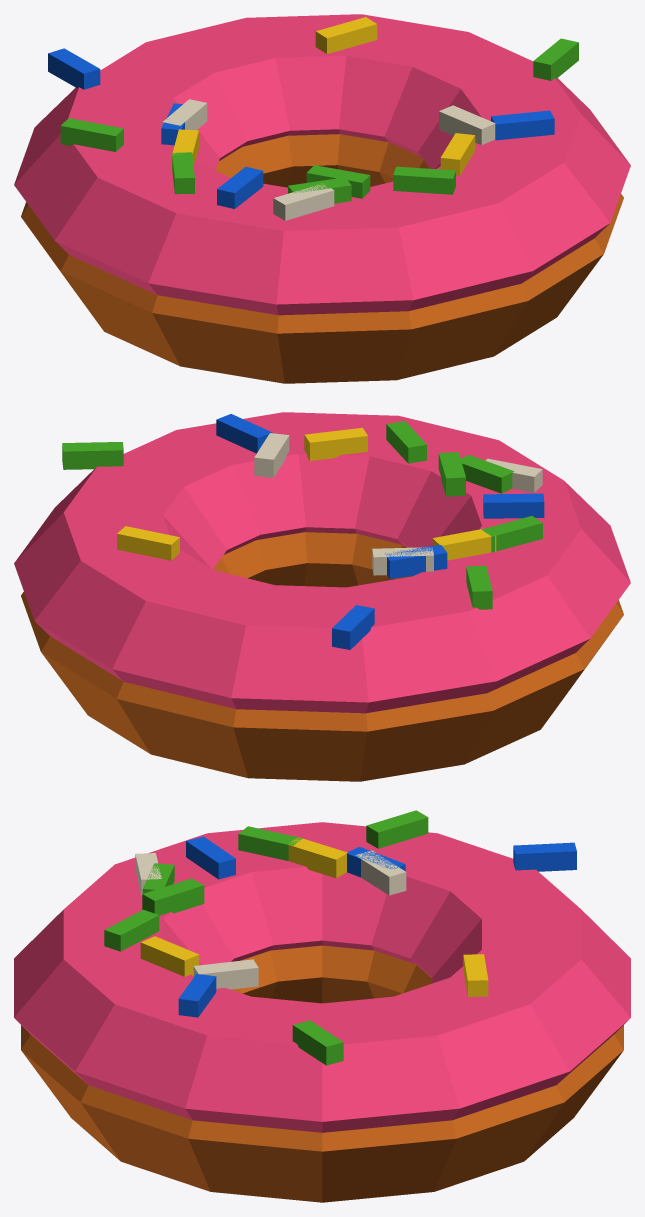
The model's file is donut.obj.
3 views of the same model, one above another, from view 1: azimuth 30°, elevation 25°; view 2: azimuth 150°, elevation 25°; view 3: azimuth 270°, elevation 25° (orthographic). The views are drawn at different scales.
Parts seen in each view (by area): view 1: donut; view 2: donut; view 3: donut.
Boxes of the visible parts, x1,y1,x2,y2 form: donut: (14,14,630,383); donut: (14,412,630,781); donut: (14,810,630,1202).
Size of the model in its own units: 0.1227 by 0.0376 by 0.1196.
